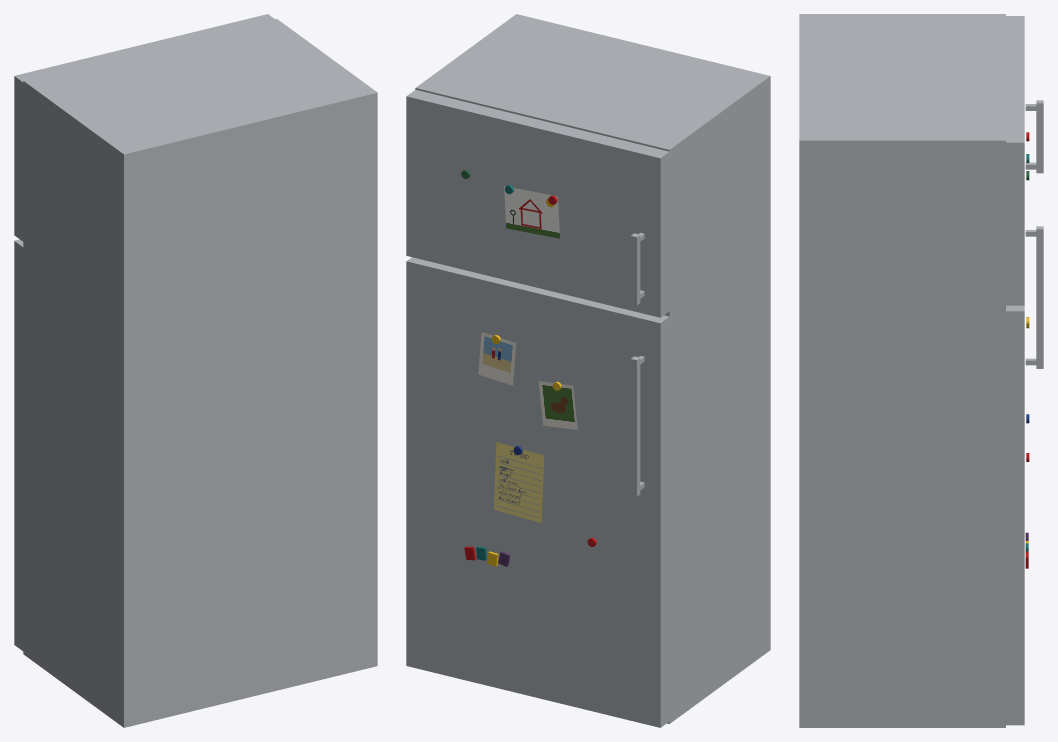
The model's file is fridge.glb.
3 views of the same model, side by side, from view 1: azimuth 30°, elevation 25°; view 2: azimuth 150°, elevation 25°; view 3: azimuth 270°, elevation 25° (orthographic). The views are drawn at different scales.
Parts seen in each view (by area): view 1: fridge, fridge-door, freezer-door; view 2: fridge-door, fridge, freezer-door, fridge-memo; view 3: fridge, fridge-door, freezer-door.
Part boxes in pixels (bbox=[...]): fridge: bbox=[23, 19, 377, 727]; fridge-door: bbox=[14, 239, 23, 650]; freezer-door: bbox=[14, 14, 274, 241]; fridge-door: bbox=[406, 257, 669, 727]; fridge: bbox=[415, 14, 770, 723]; freezer-door: bbox=[406, 89, 669, 317]; fridge-memo: bbox=[494, 442, 544, 522]; fridge: bbox=[799, 14, 1005, 727]; fridge-door: bbox=[1006, 226, 1043, 725]; freezer-door: bbox=[1006, 16, 1043, 305].
Bounding box in the file's own units: 2.92 × 6.3 × 2.37.
Materials: 24 (4 with a texture image).
